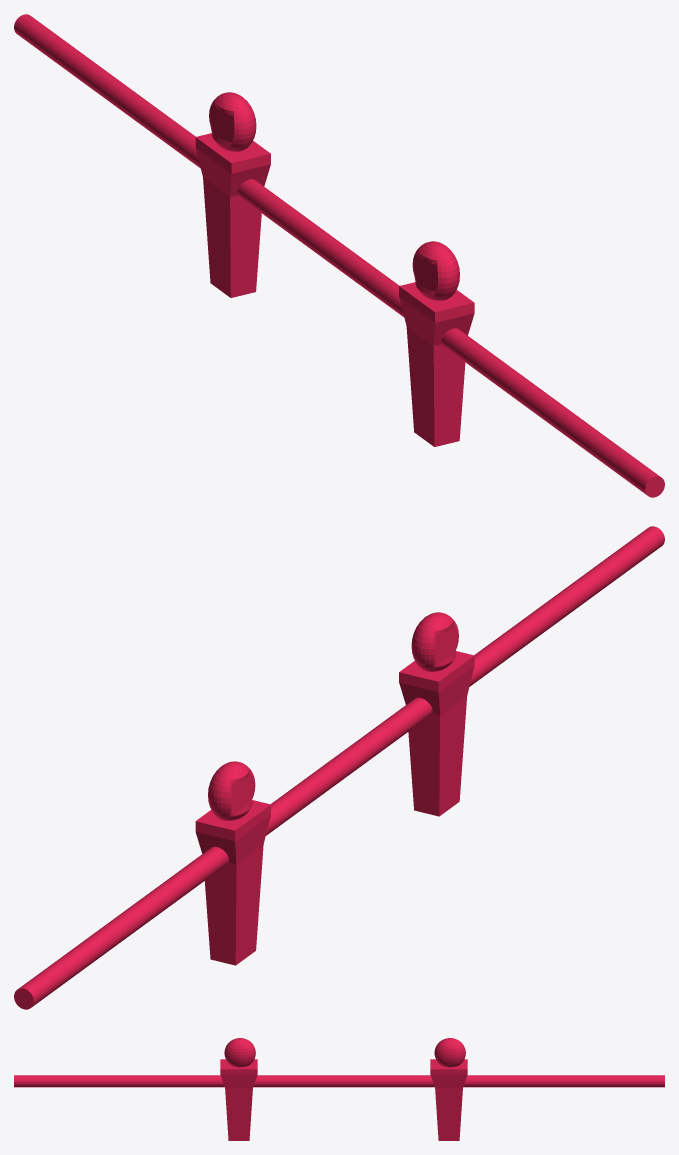
File: Player_B2.glb
3 views of the same model, one above another, from view 1: azimuth 30°, elevation 25°; view 2: azimuth 150°, elevation 25°; view 3: azimuth 270°, elevation 25° (orthographic). The views are drawn at different scales.
Parts seen in each view (by area): view 1: Player_B2; view 2: Player_B2; view 3: Player_B2.
Boxes of the visible parts, x1=… form: Player_B2: x1=14, y1=14, x2=664, y2=497; Player_B2: x1=14, y1=526, x2=664, y2=1009; Player_B2: x1=14, y1=1038, x2=664, y2=1140.
Bounding box in the file's own units: 1.57 × 7.28 × 43.39.
